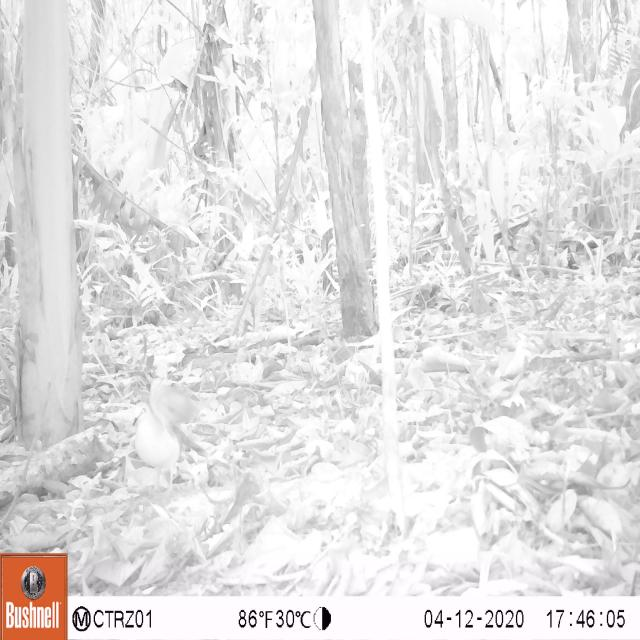Crypturellus: (116, 398, 207, 489)
